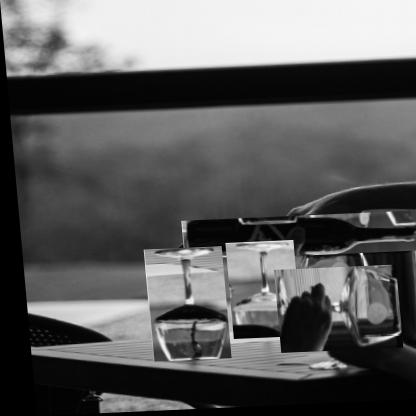alcohol: (177, 214, 415, 264)
alcohol_glass: (277, 258, 388, 366), (139, 248, 226, 364), (220, 243, 296, 342)
